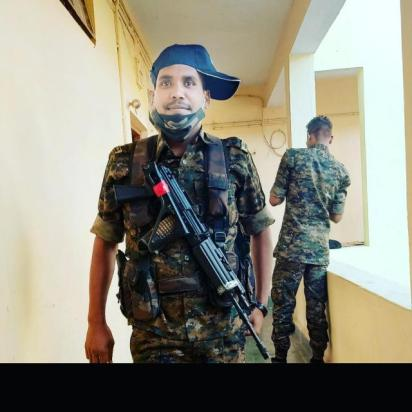Gun: (110, 158, 272, 362)
